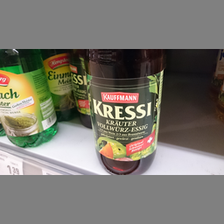vinegar: (88, 48, 167, 176), (1, 49, 60, 150)
